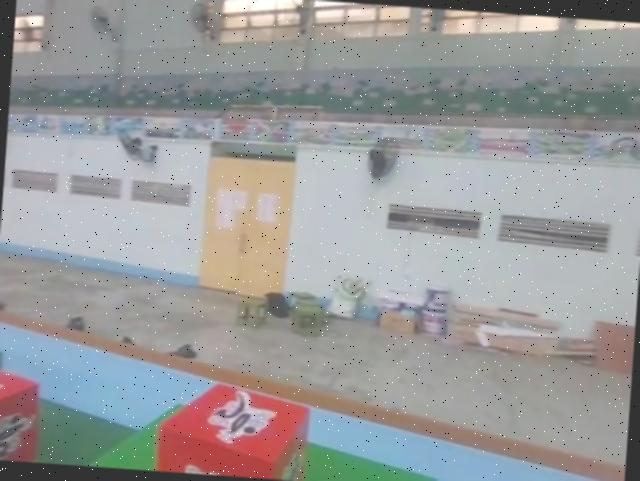R1: (148, 371, 313, 481), (0, 361, 46, 462)
